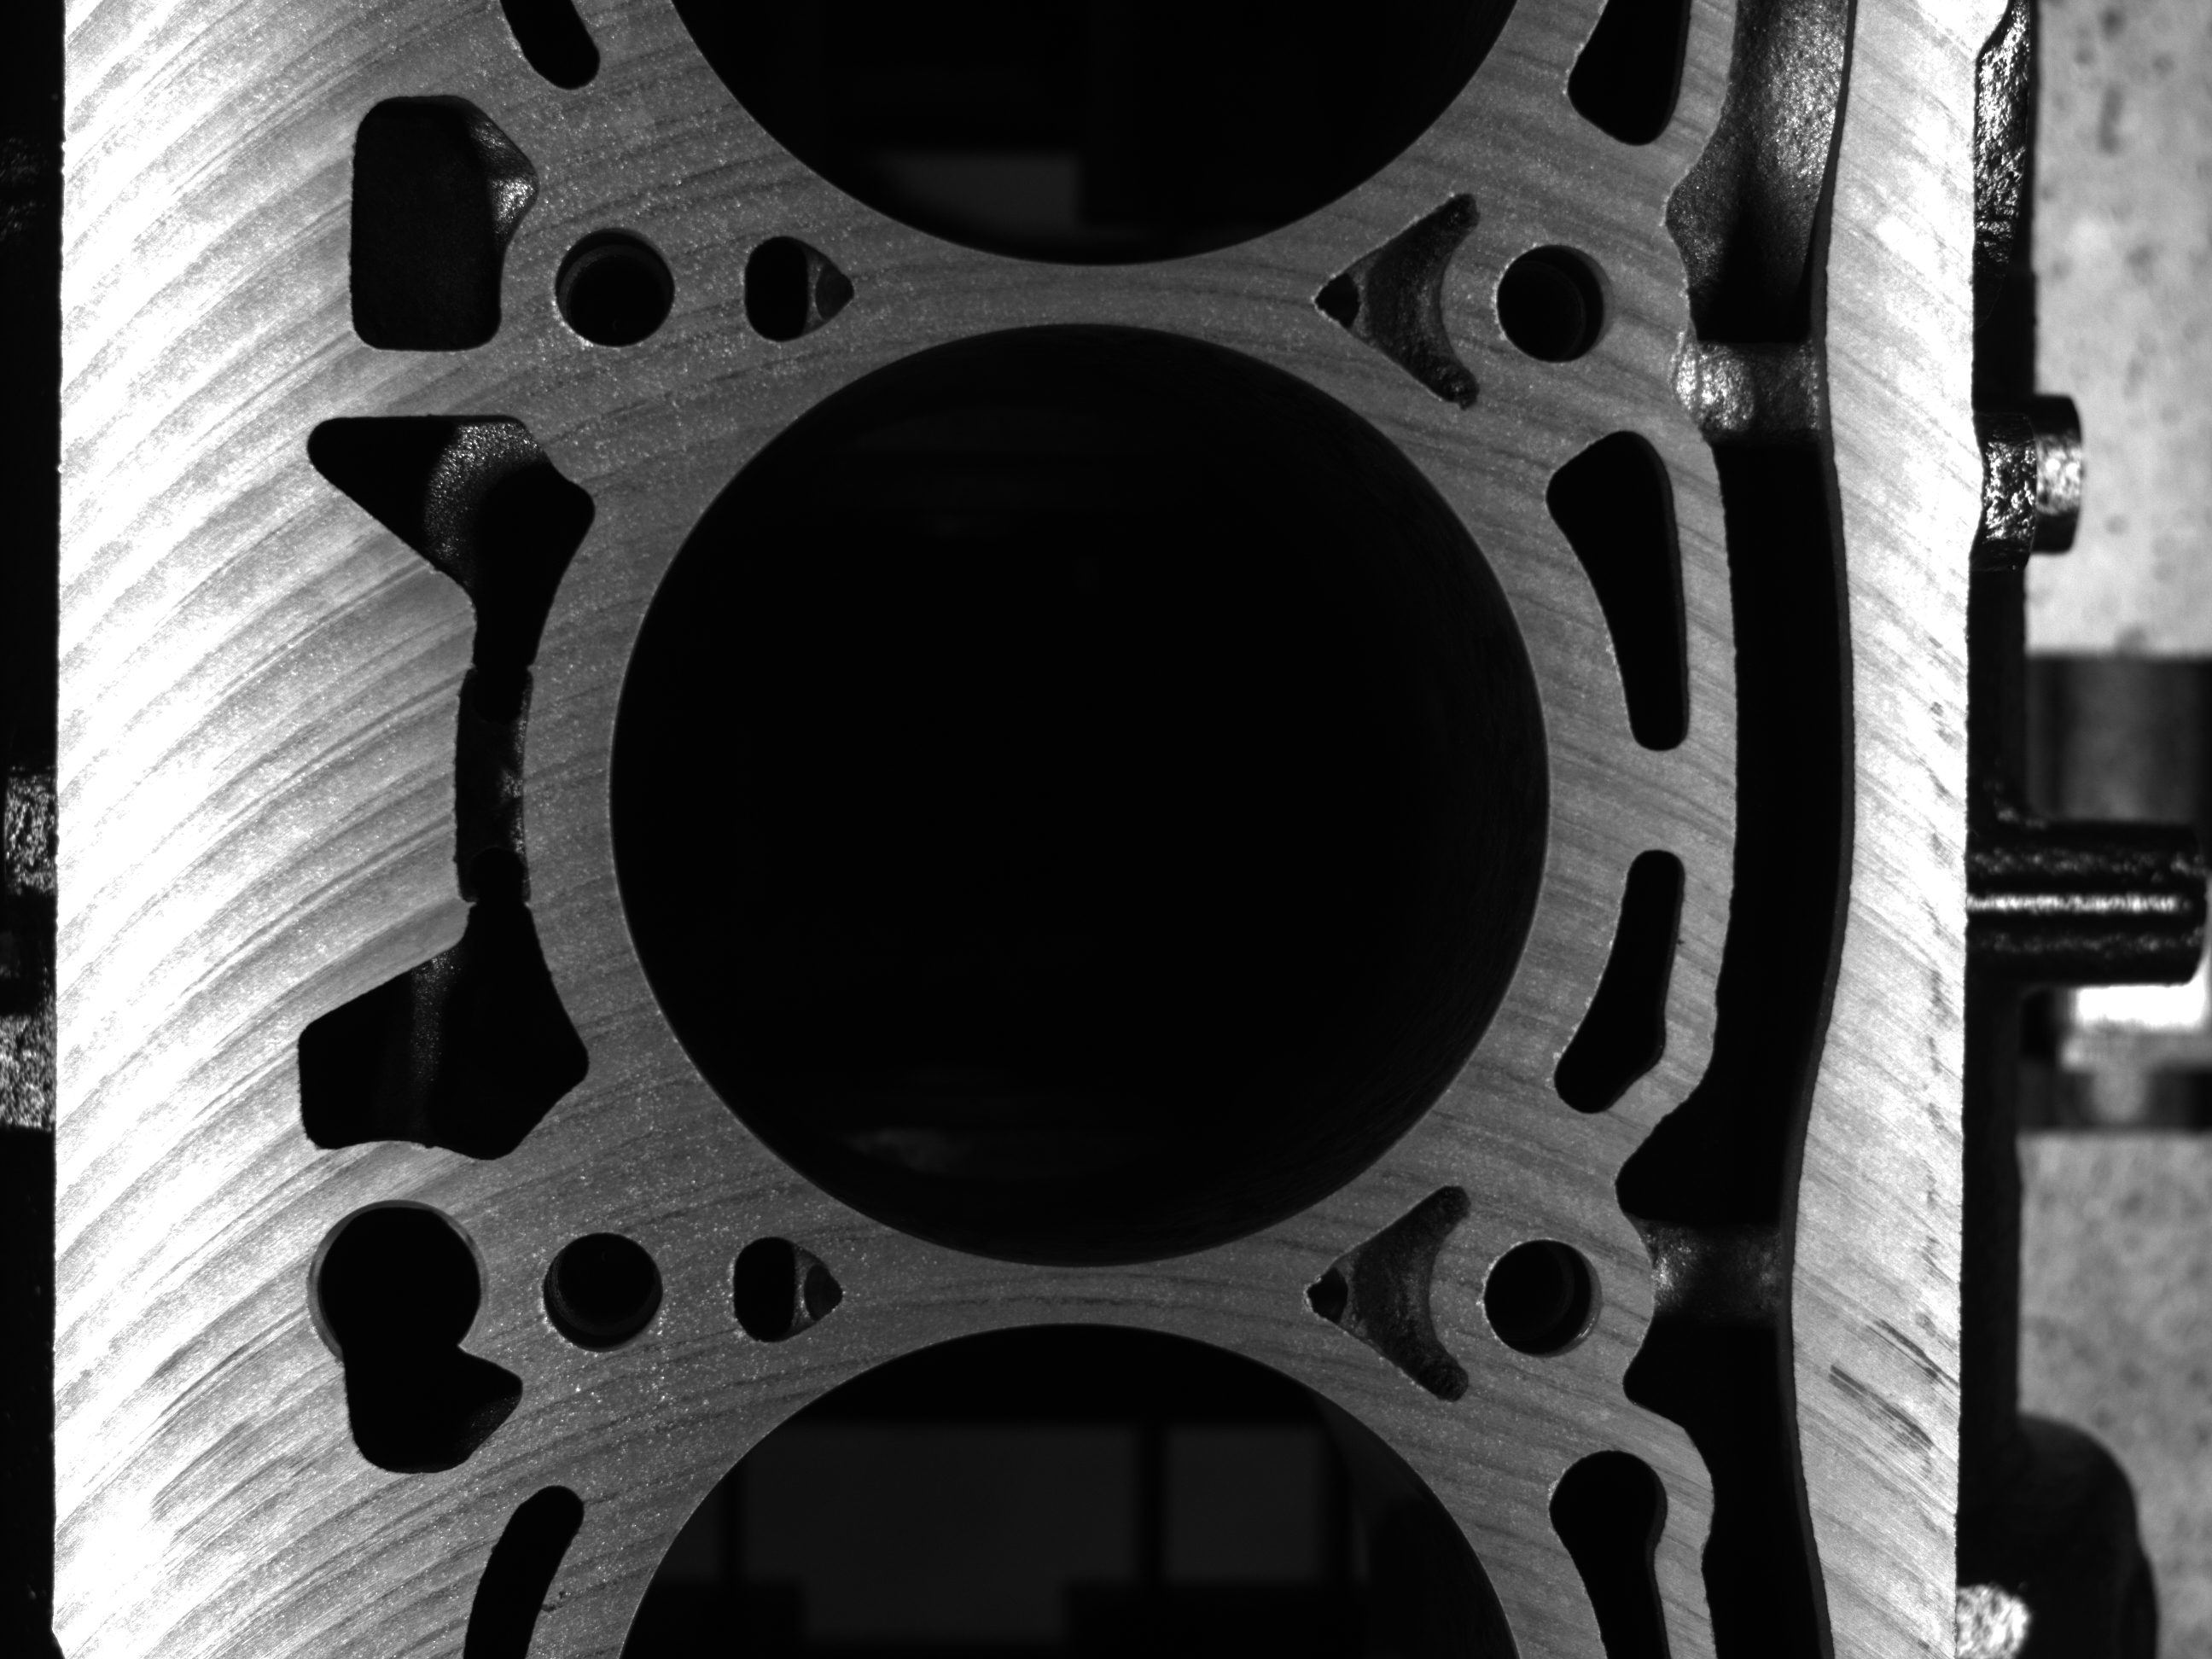crackle: (538, 1589, 575, 1622)
